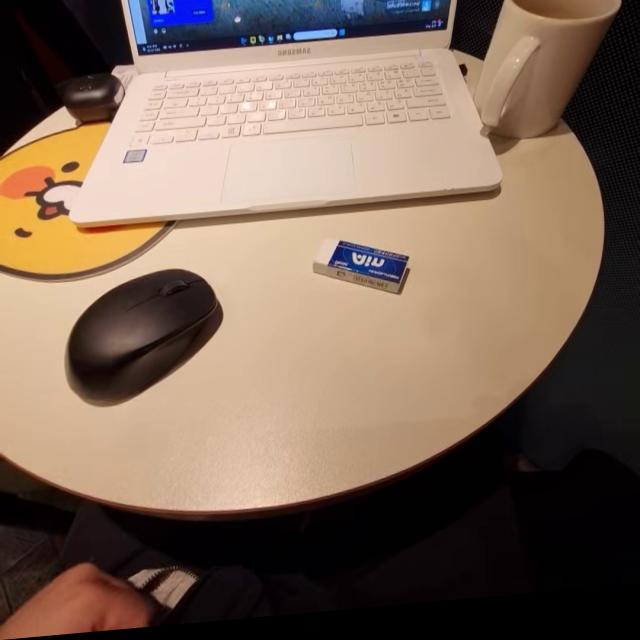eraser: (305, 236, 422, 307)
mouse: (57, 264, 253, 431)
